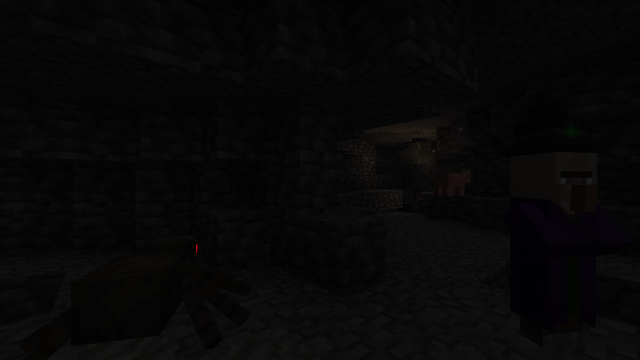araignees: (71, 226, 242, 357)
cochons: (433, 172, 466, 196)
sorcieres: (506, 141, 595, 358)
